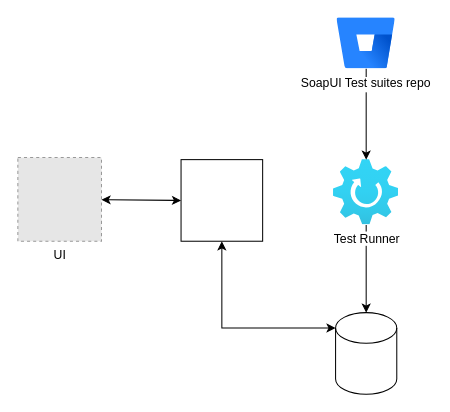
Some shapes in this 450 by 412 pixel diagram are drawn without their labels. Grey dashed boxes stand in for pictures. The centre of each missing label's shape, as x and y in pixels:
MicroService (Rest API/Alerts): (221,200)
Mongo db: (366,353)
